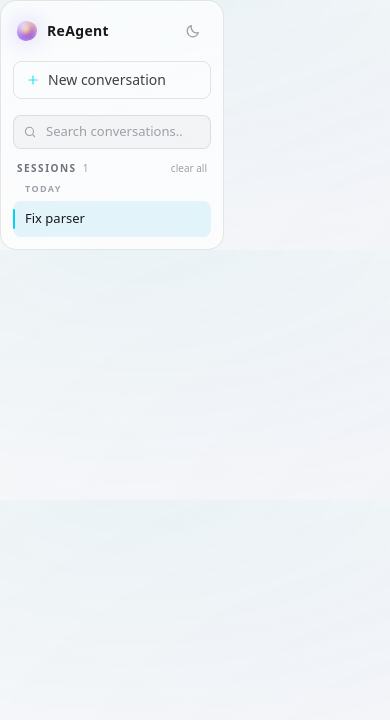
Test case: Sidebar search › clearing the input returns to the normal session list
Step 1. Type "found" into the field labelled "Search conversations" → coordinates (112, 132), box [13,115,211,148]
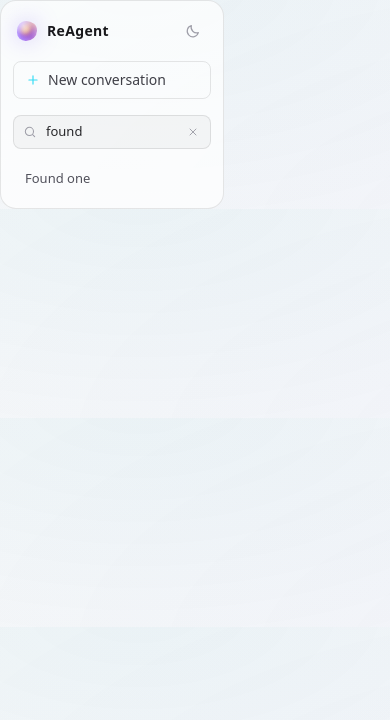
Check: the text "Found one" is shown, box [25,168,90,186]
Step 2. Click the button named "Clear search" → coordinates (193, 132), box [181,120,205,144]
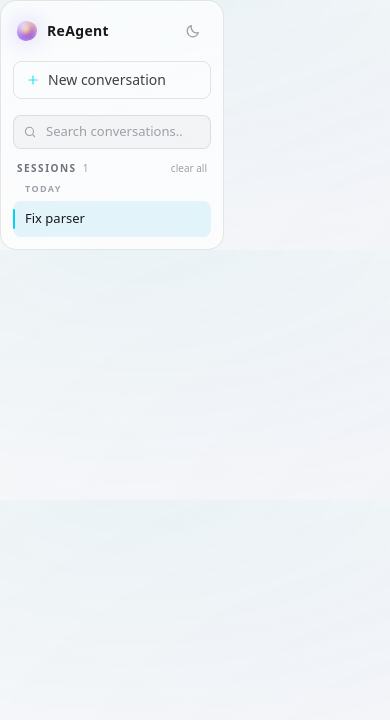
Check: the button "Found one" is gone
Check: the text "Fix parser" is shown, box [25,209,85,227]
